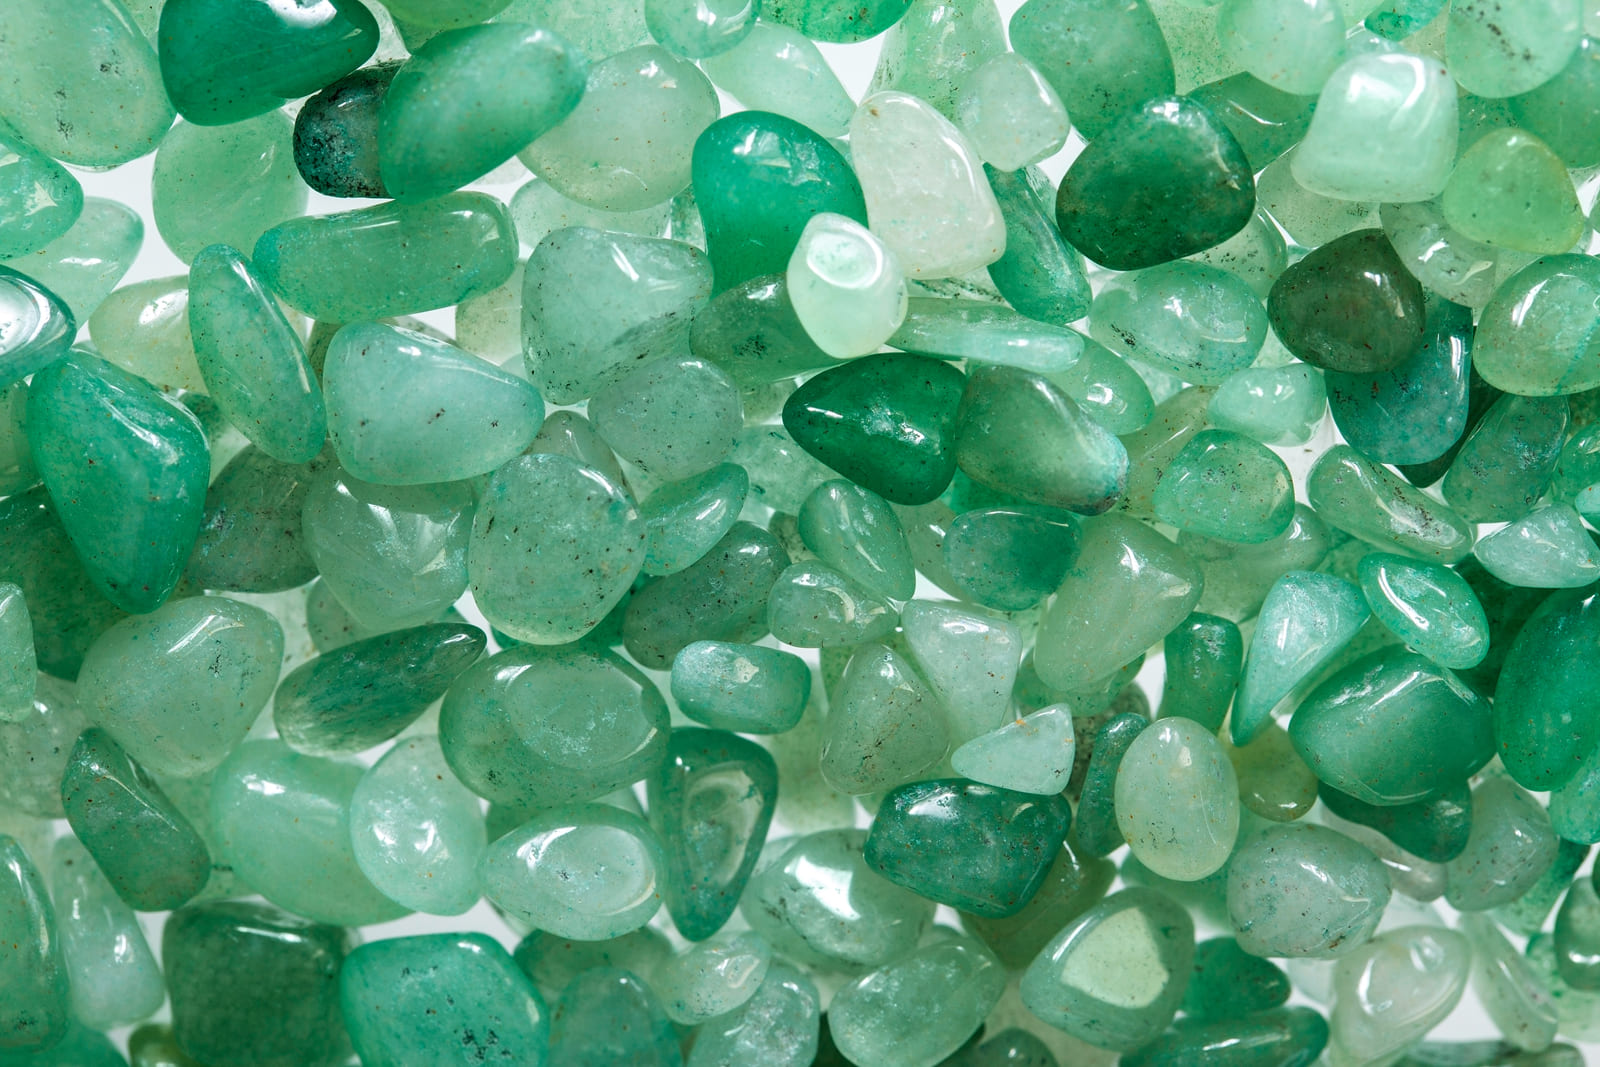Aventurine: (10, 5, 1600, 1067)
